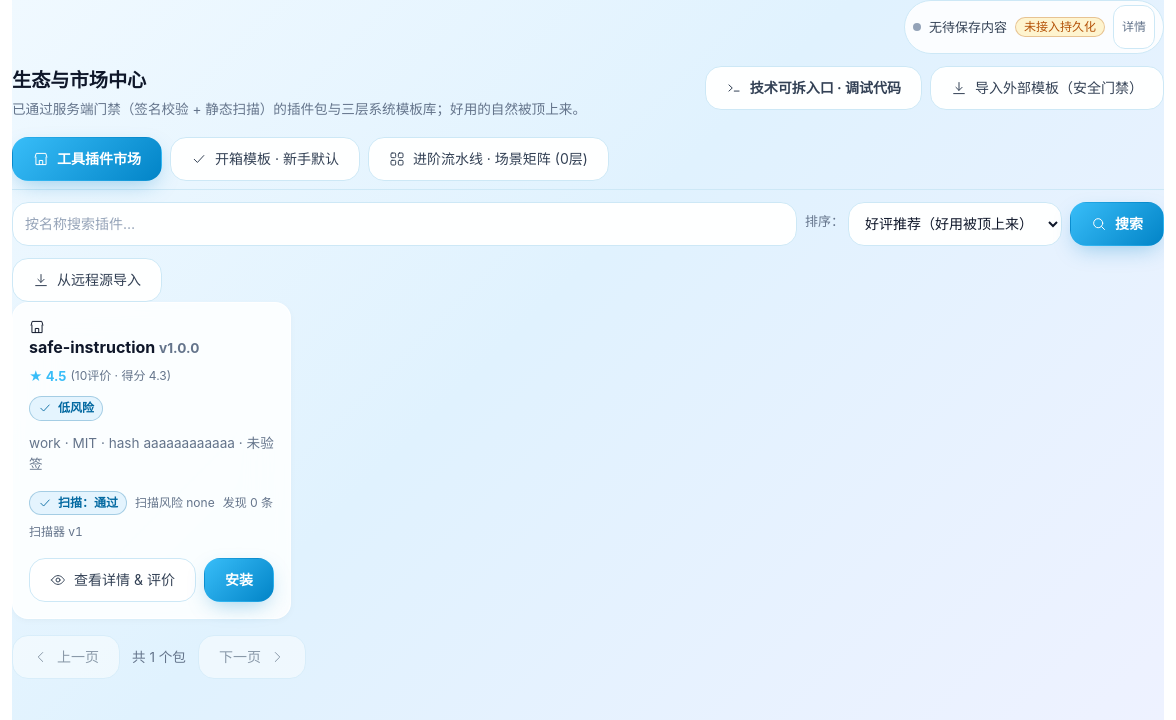
远程源导入入口 › 没有登记远程源时如实说明，不给假入口
Click the button with test id "market-source-open" at (87, 280), box [12,258,162,302]
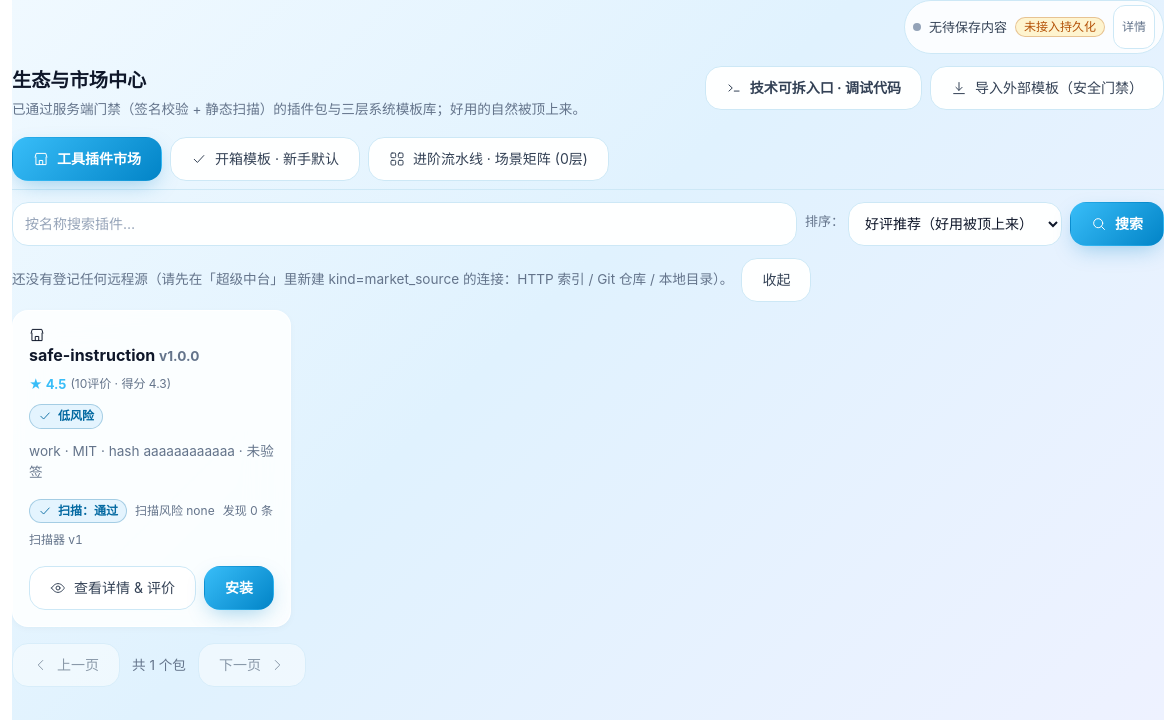
Expected: the text with test id "market-source-empty" is shown, [12,269,733,290]
